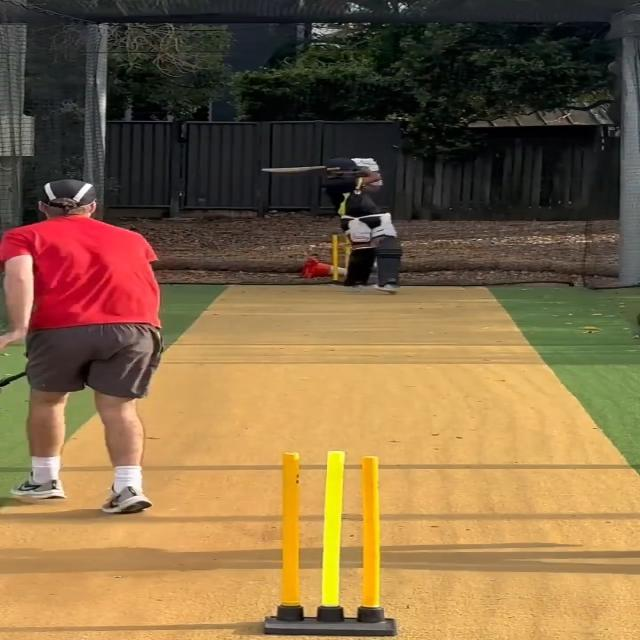stump: (264, 448, 398, 637)
